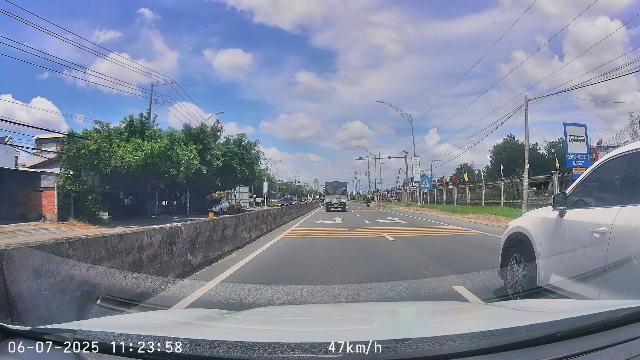423a-duong-nguoi-di-bo-sang-ngang-1: (420, 177, 431, 189)
